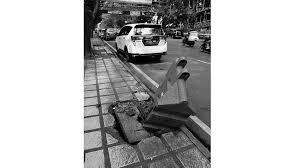Pothole: (102, 90, 159, 144)
